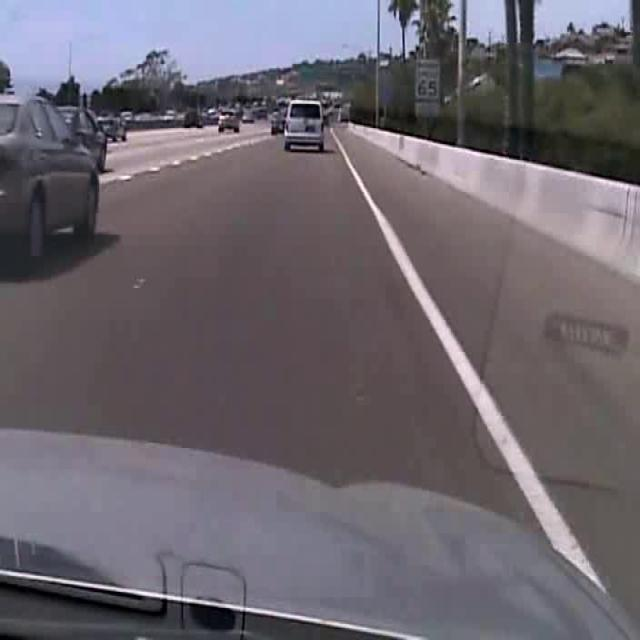speedLimit65: (414, 58, 441, 102)
